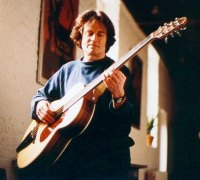guitar: (14, 17, 189, 173)
